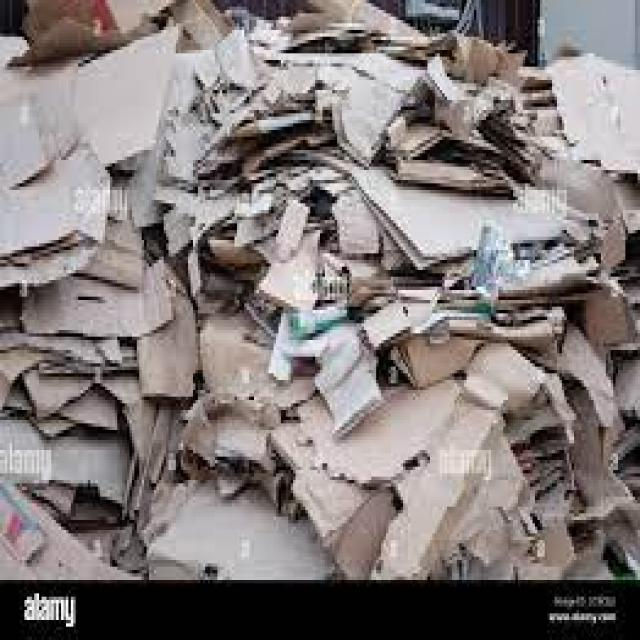Paper -Biodegradable-: (0, 0, 640, 584)
